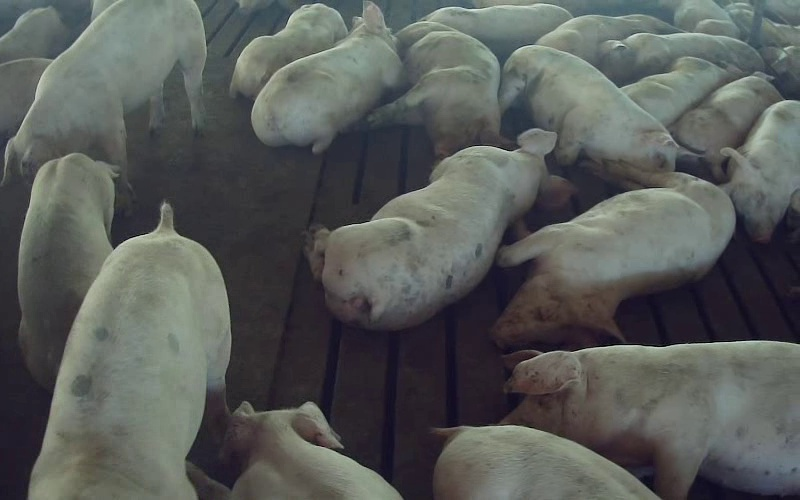pig: (29, 203, 230, 499), (305, 129, 573, 330), (502, 341, 799, 499), (492, 163, 734, 347), (18, 153, 117, 389), (251, 2, 403, 152), (499, 45, 676, 170), (367, 22, 505, 159), (669, 73, 782, 182), (720, 100, 799, 242), (230, 4, 347, 98), (598, 33, 764, 85), (424, 4, 571, 62), (621, 57, 739, 126), (536, 14, 680, 65)
